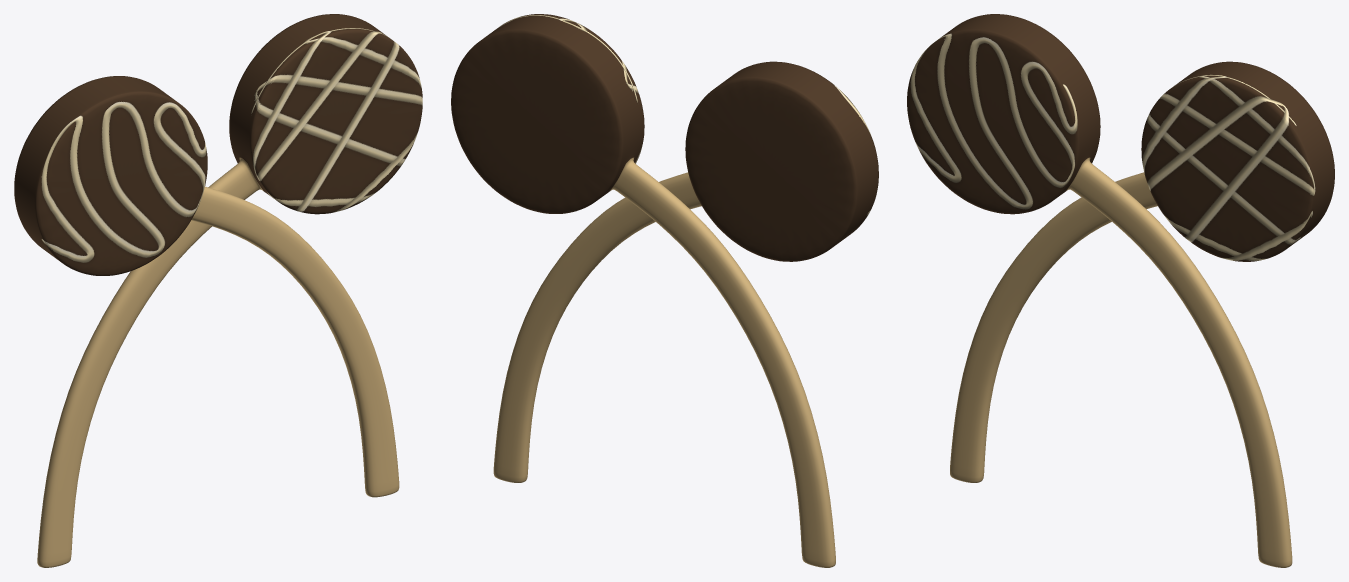
File: Portal_PirulitoChocolate.fbx
The picture shows the model from 3 angles, left to right: view 1: azimuth 30°, elevation 25°; view 2: azimuth 150°, elevation 25°; view 3: azimuth 330°, elevation 25°; orthographic projection.
Parts seen in each view (by area): view 1: Cylinder.002, Cylinder; view 2: Cylinder, Cylinder.002; view 3: Cylinder.002, Cylinder.
Part boxes in pixels (left/top/right/bottom): Cylinder.002: left=14, top=76, right=399, bottom=497; Cylinder: left=37, top=14, right=422, bottom=567; Cylinder: left=451, top=14, right=835, bottom=567; Cylinder.002: left=493, top=61, right=878, bottom=482; Cylinder.002: left=907, top=14, right=1292, bottom=567; Cylinder: left=950, top=61, right=1334, bottom=482.
Bounding box in the file's own units: 847 × 968 × 135.
